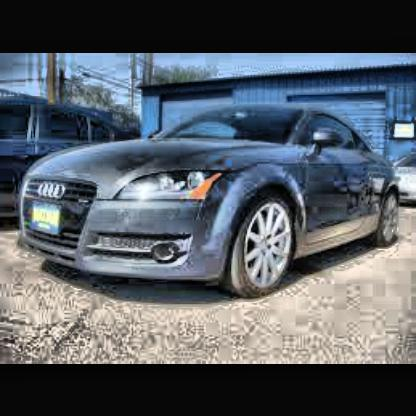Audi TTS Coupe 2012: (22, 101, 404, 303)
